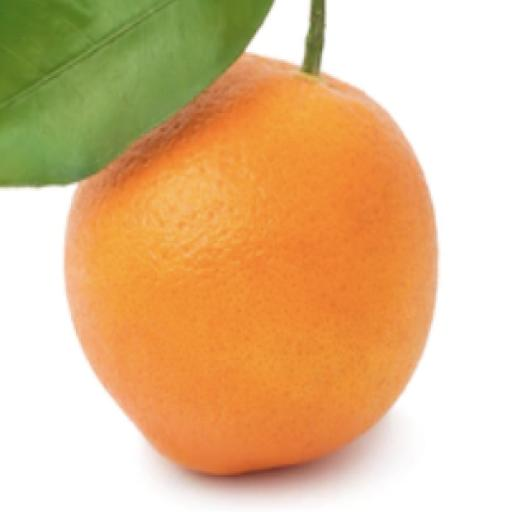orange: (67, 54, 437, 474)
